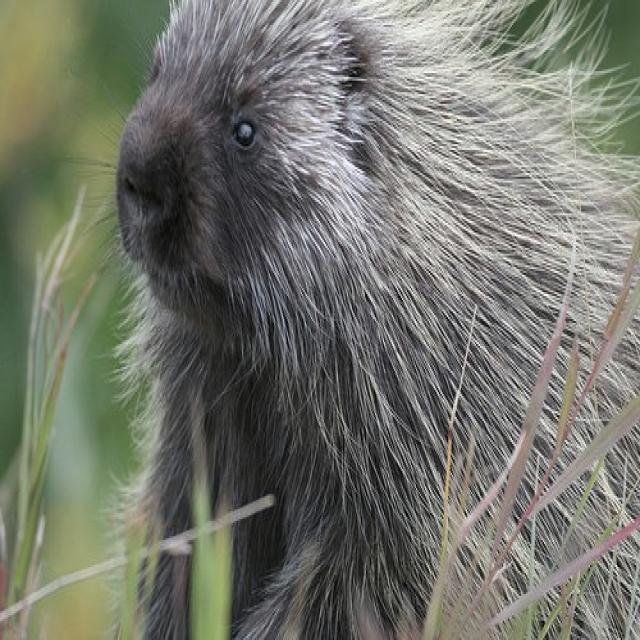porcupine: (118, 0, 640, 638)
